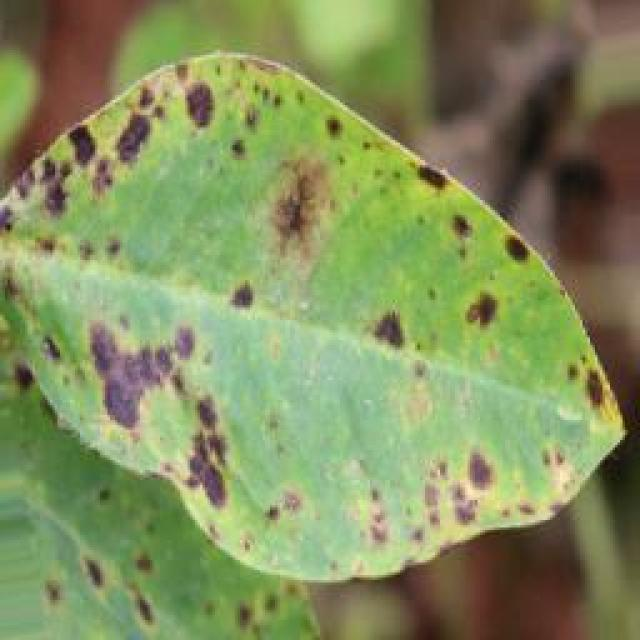Yellowish: (0, 30, 595, 640)
